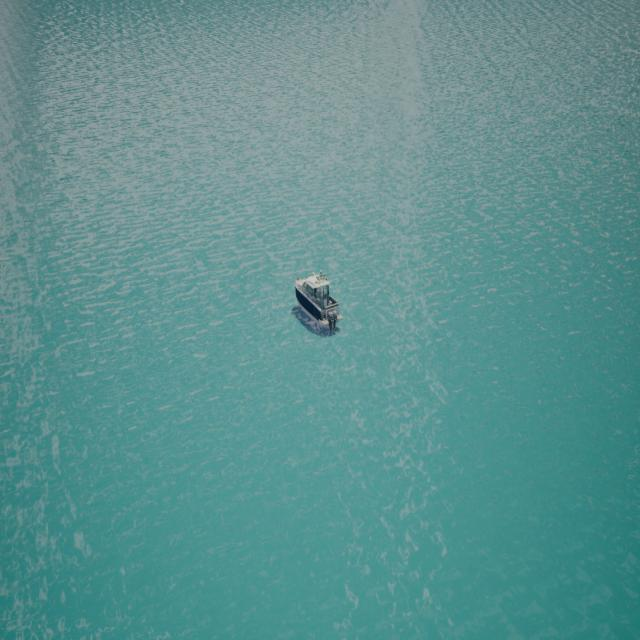ship: (292, 268, 342, 335)
